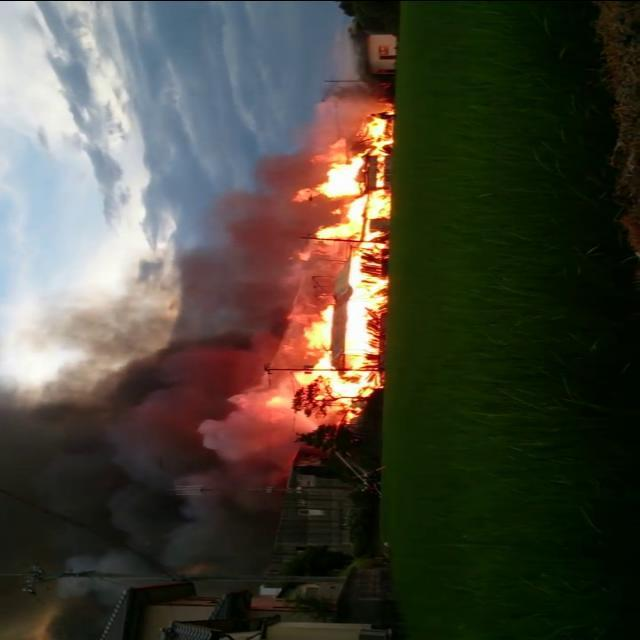Fire: (270, 103, 394, 420)
